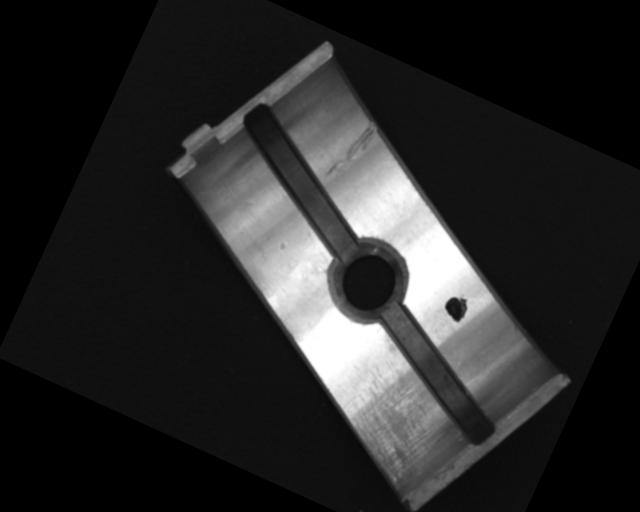blot: (439, 290, 473, 325)
bruise: (277, 237, 289, 251)
gap: (208, 101, 393, 264), (348, 299, 526, 449)
hole: (316, 229, 417, 334)
nick: (324, 111, 381, 188)
scratch: (324, 351, 465, 496)
